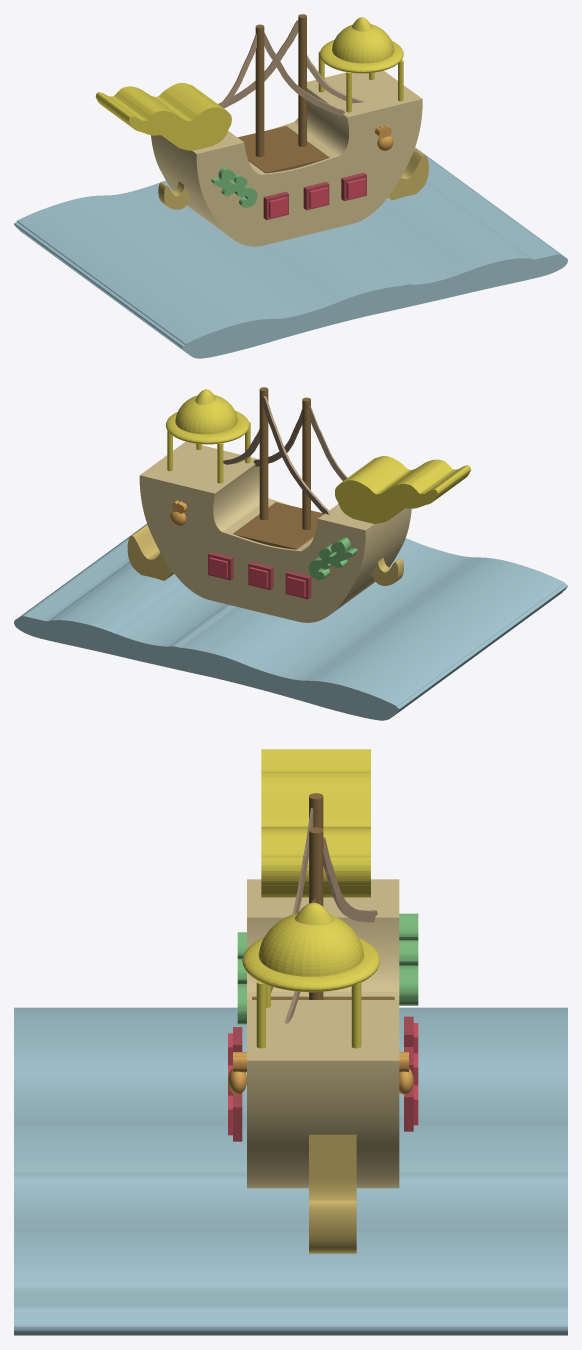
File: Terrific Curcan.glb
The picture shows the model from 3 angles, top to bottom: view 1: azimuth 30°, elevation 25°; view 2: azimuth 150°, elevation 25°; view 3: azimuth 270°, elevation 25°; orthographic projection. The views are drawn at different scales.
Visible parts, largest first — view 1: Mesh_Mesh_head_geo.001_lambert2SG.001; view 2: Mesh_Mesh_head_geo.001_lambert2SG.001; view 3: Mesh_Mesh_head_geo.001_lambert2SG.001.
Boxes of the visible parts, bbox=[...] form: Mesh_Mesh_head_geo.001_lambert2SG.001: bbox=[14, 14, 567, 358]; Mesh_Mesh_head_geo.001_lambert2SG.001: bbox=[14, 387, 567, 720]; Mesh_Mesh_head_geo.001_lambert2SG.001: bbox=[14, 749, 567, 1335].
Bounding box in the file's own units: 0.1536 × 0.0874 × 0.1164.
